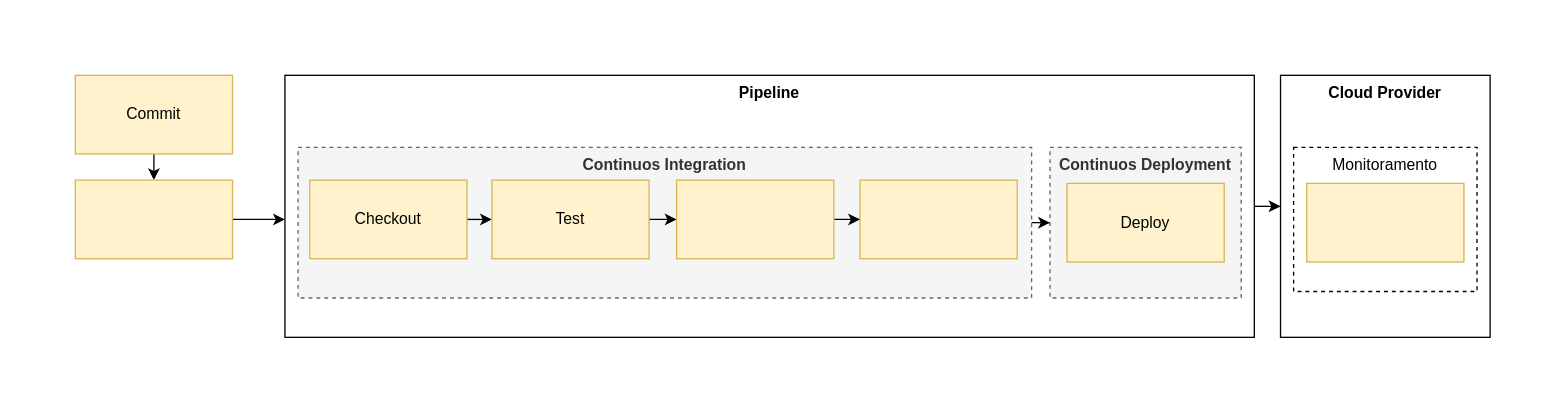
Some shapes in this 1564 by 411 pixel diagram are drawn without their labels. The centre of each missing label's shape, as x and y in pixels:
"Build" belongs at [754,219].
"GitHub" belongs at [153,219].
"Push Image" belongs at [938,219].
"WebApp" belongs at [1384,222].
